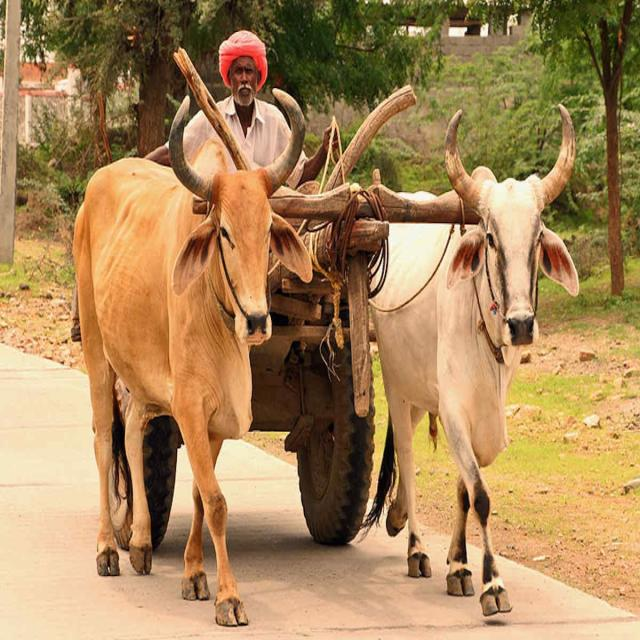Ox: (62, 86, 304, 633), (374, 95, 587, 617)
